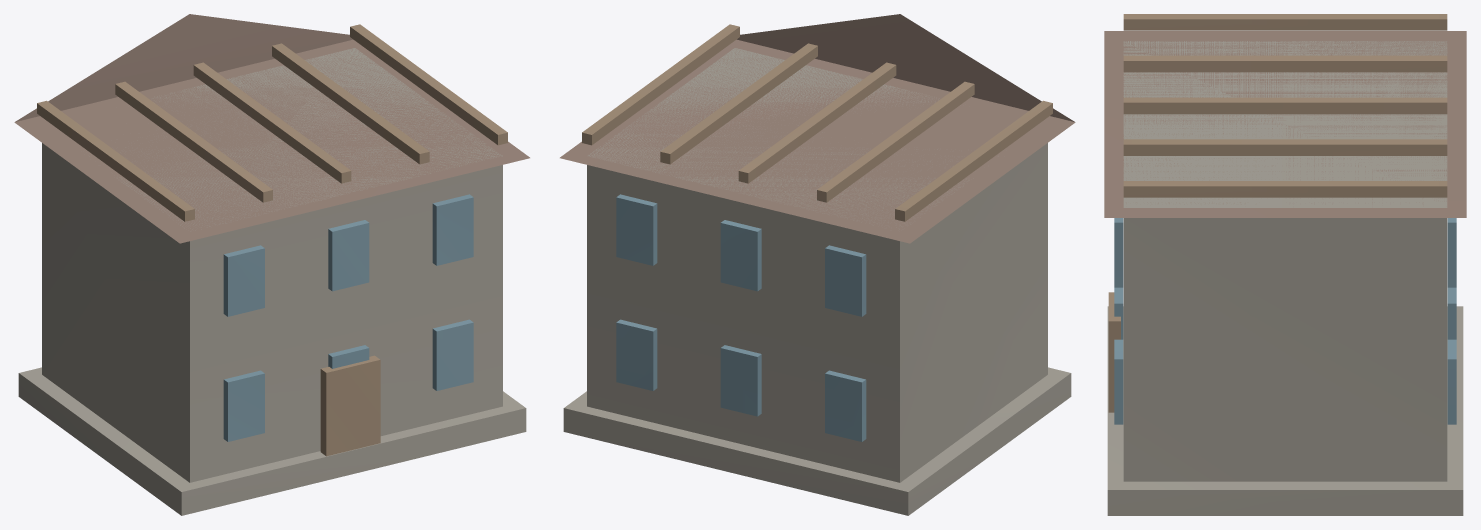
The model's file is greenhouse-00.glb.
3 renders of one model, left to right at view 1: azimuth 30°, elevation 25°; view 2: azimuth 150°, elevation 25°; view 3: azimuth 270°, elevation 25°, orthographic. The views are drawn at different scales.
Visible parts, largest first — view 1: world; view 2: world; view 3: world.
Part boxes in pixels (left/top/right/bottom): world: left=14, top=14, right=529, bottom=515; world: left=560, top=14, right=1075, bottom=515; world: left=1104, top=14, right=1466, bottom=515.
Bounding box in the file's own units: 1.23 × 1.14 × 1.01.
